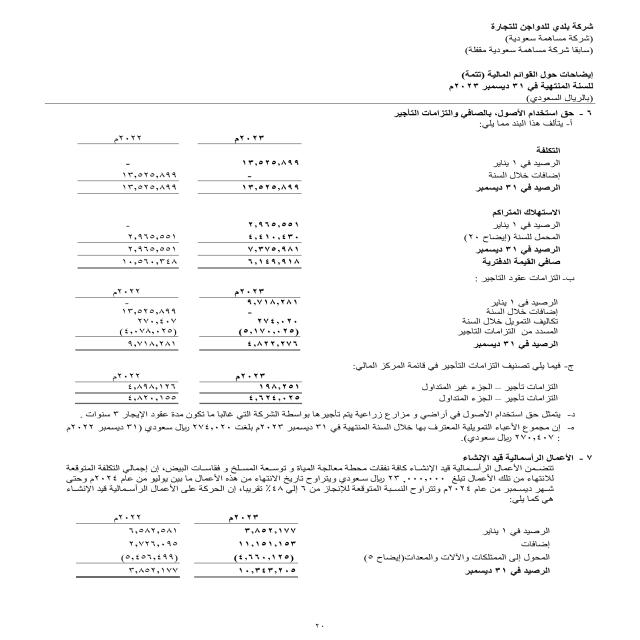notes: (440, 66, 600, 80)
table: (55, 129, 315, 411), (50, 501, 319, 585)
